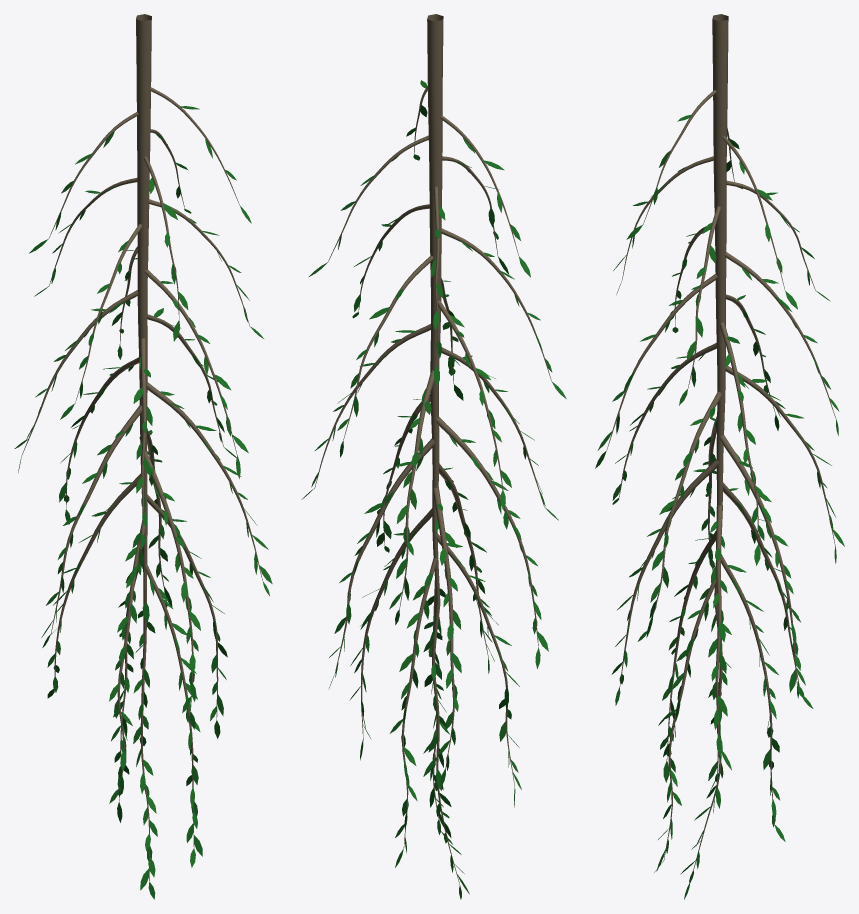
The model's file is vines2.fbx.
3 views of the same model, side by side, from view 1: azimuth 30°, elevation 25°; view 2: azimuth 150°, elevation 25°; view 3: azimuth 270°, elevation 25° (orthographic). The views are drawn at different scales.
Visible parts, largest first — view 1: vines2; view 2: vines2; view 3: vines2.
Part boxes in pixels (bbox=[...]): vines2: bbox=[14, 14, 272, 899]; vines2: bbox=[301, 14, 566, 899]; vines2: bbox=[595, 14, 844, 899].
Bounding box in the file's own units: 180 × 681 × 174.
